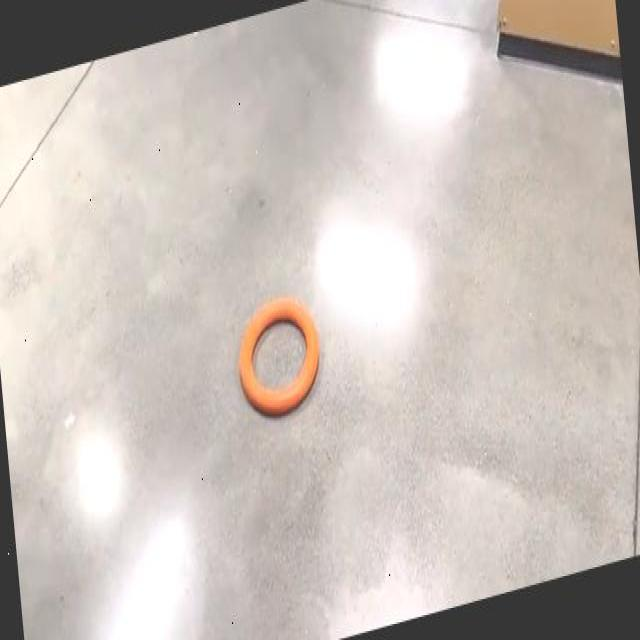note: (239, 296, 320, 414)
